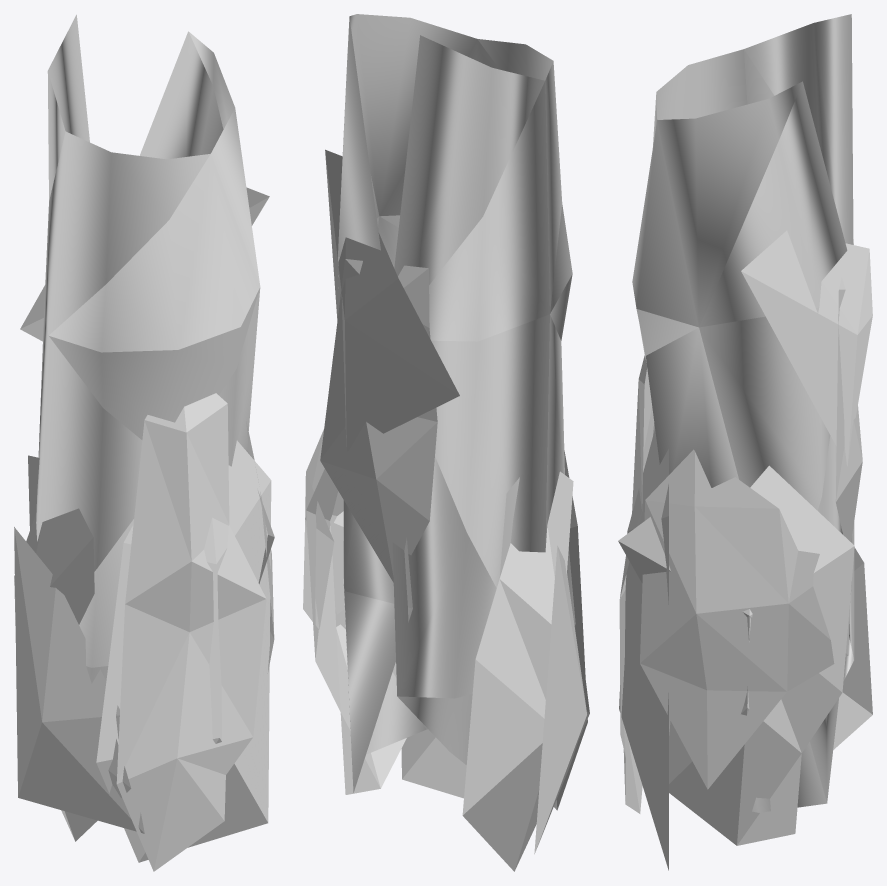
File: SM_Env_Ivy_Pillar_Flowers_01.glb
3 renders of one model, left to right at view 1: azimuth 30°, elevation 25°; view 2: azimuth 150°, elevation 25°; view 3: azimuth 270°, elevation 25°, orthographic. The views are drawn at different scales.
Parts seen in each view (by area): view 1: SM_Env_Ivy_Pillar_Flowers_01; view 2: SM_Env_Ivy_Pillar_Flowers_01; view 3: SM_Env_Ivy_Pillar_Flowers_01.
Boxes of the visible parts, box(x1,y1,x2,y2) form: SM_Env_Ivy_Pillar_Flowers_01: box(14, 14, 274, 871); SM_Env_Ivy_Pillar_Flowers_01: box(303, 14, 589, 871); SM_Env_Ivy_Pillar_Flowers_01: box(618, 14, 872, 870).
Bounding box in the file's own units: 0.698 × 2.24 × 0.6302.
Materials: 1 (1 with a texture image).
